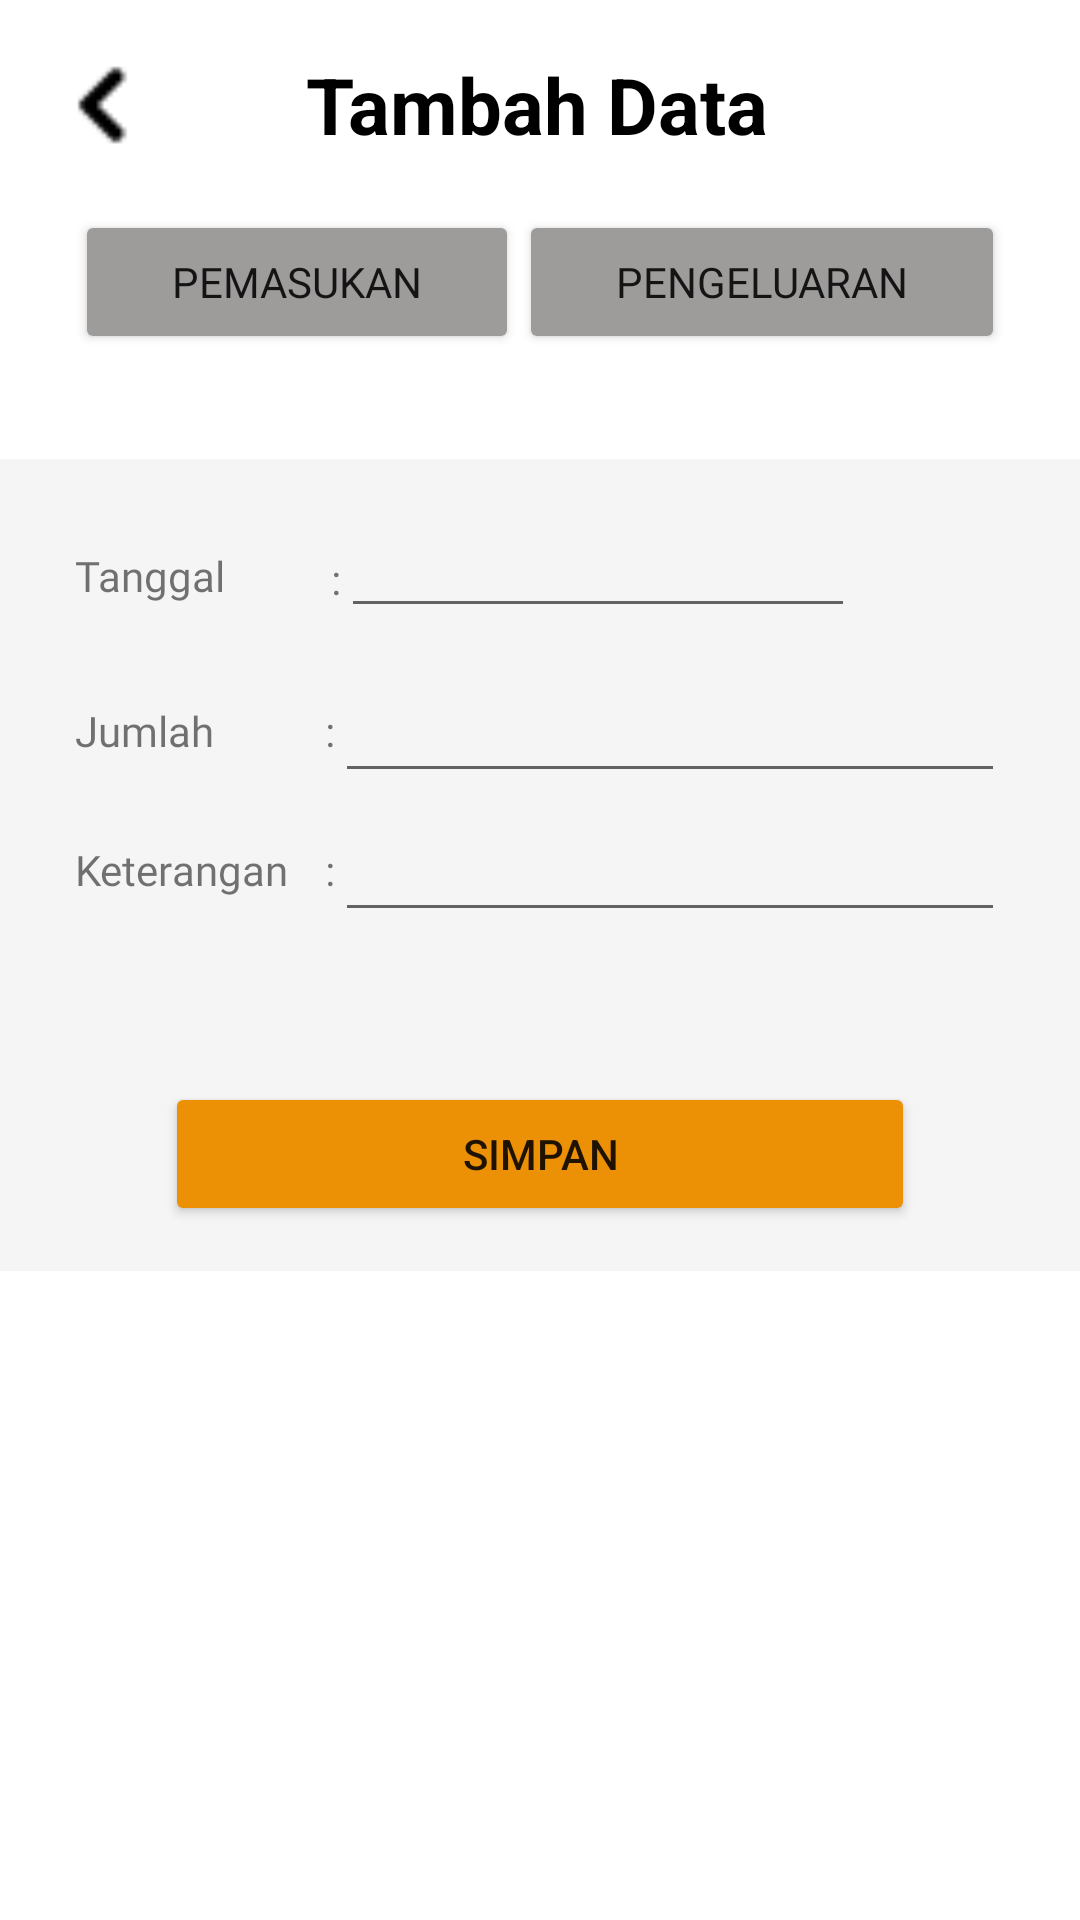

Screen size 1080x1920. Icon name, then its center in pixels as [x,y]:
panah kiri: [102,105]
